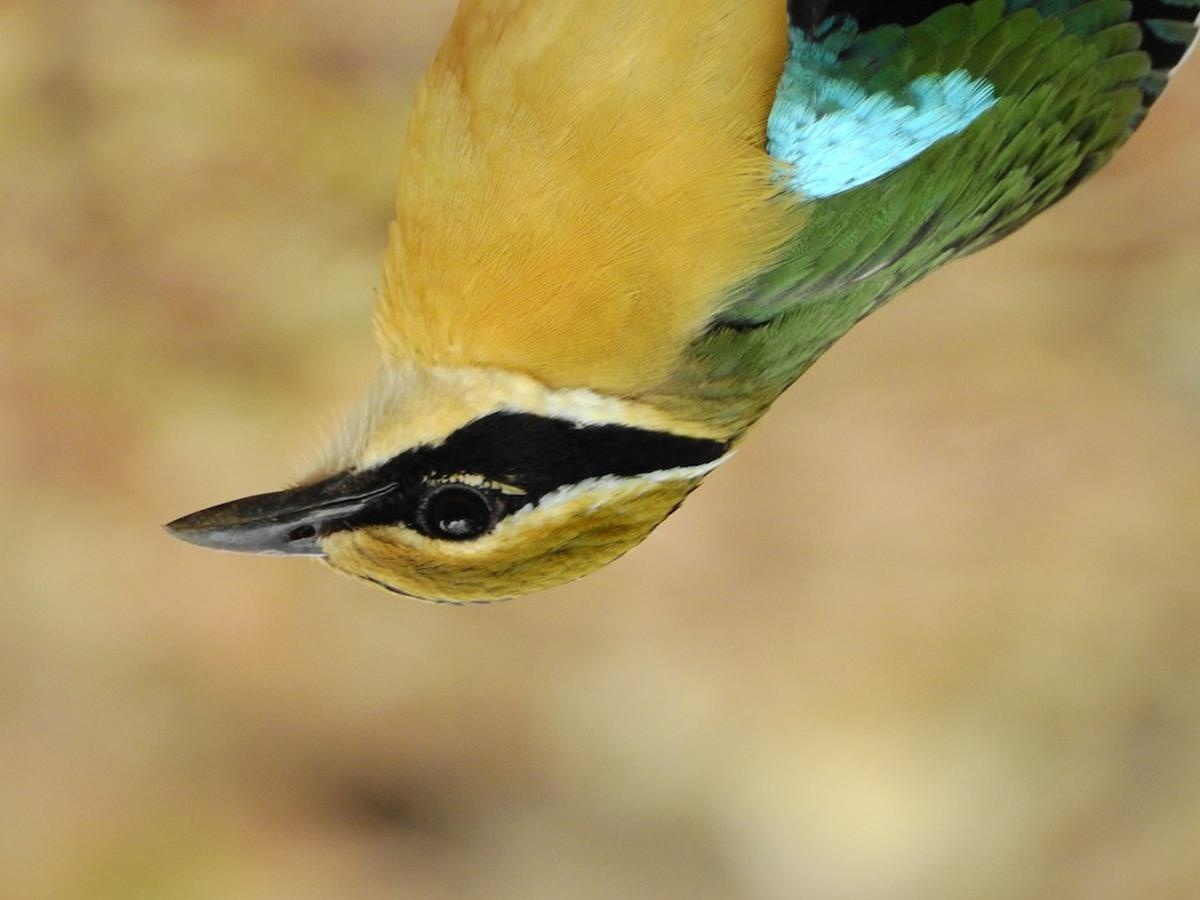pitta: (156, 1, 1131, 616)
